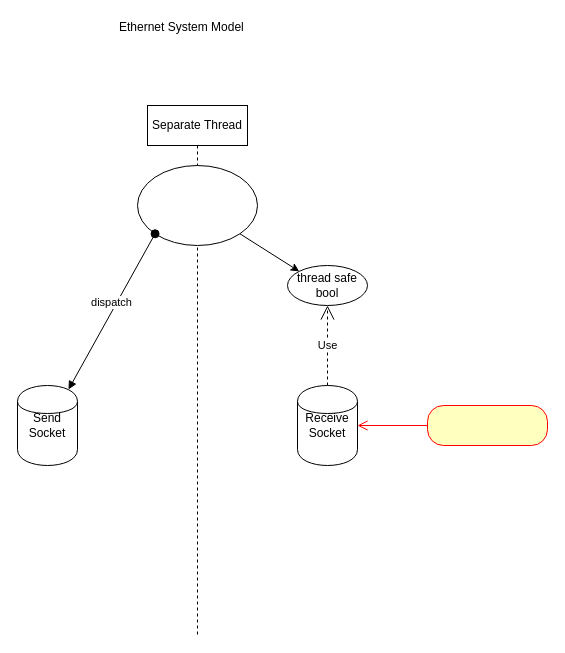
The diagram is 565 pixels wide and 653 high, and some of its shapes have lost their labels. The centre of each missing label's shape, as x and y in pixels:
EthernetSystem: (197,205)
Static Message Received Event: (487,425)
